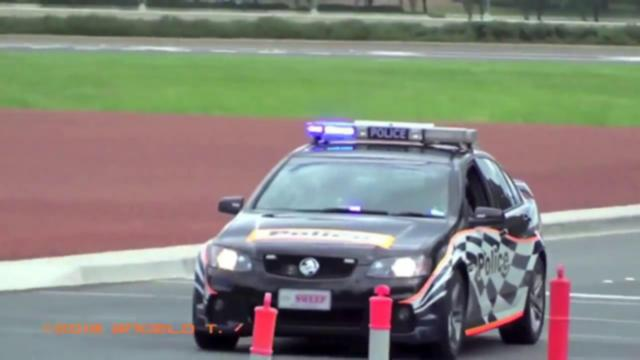police_car: (195, 117, 550, 344)
